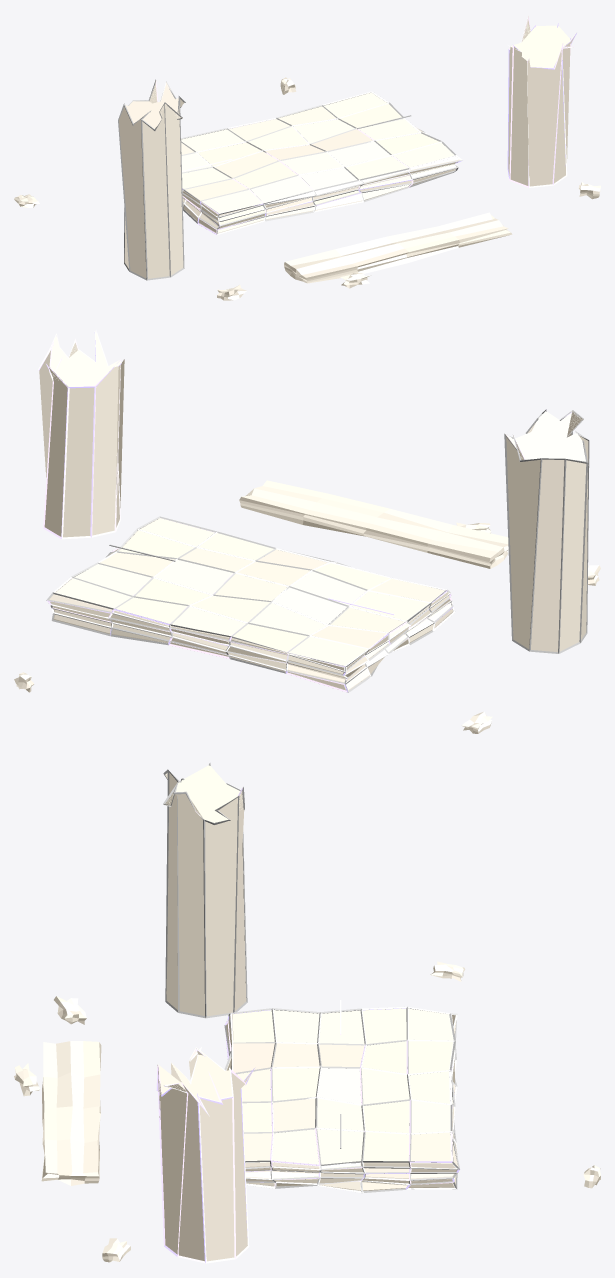
File: thealter.glb
The picture shows the model from 3 angles, top to bottom: view 1: azimuth 30°, elevation 25°; view 2: azimuth 150°, elevation 25°; view 3: azimuth 270°, elevation 25°; orthographic projection. The views are drawn at different scales.
Parts seen in each view (by area): view 1: AltarSlab, ColumnLeft, ColumnRight, AltarStep, AccentSlab.001, AccentSlab, AccentColL.001, AccentColR; view 2: AltarSlab, ColumnLeft, ColumnRight, AltarStep, AccentSlab.001, AccentSlab, AccentColL.001, AccentColR; view 3: AltarSlab, ColumnLeft, ColumnRight, AltarStep, AccentSlab.001, AccentSlab, AccentColL.001, AccentColR.
Boxes of the visible parts, x1,y1,x2,y2 form: AltarSlab: (181, 93, 460, 233); ColumnLeft: (119, 80, 183, 278); ColumnRight: (508, 16, 576, 186); AltarStep: (284, 212, 512, 283); AccentSlab.001: (181, 92, 462, 234); AccentSlab: (182, 91, 462, 235); AccentColL.001: (118, 79, 185, 280); AccentColR: (507, 15, 576, 187); AltarSlab: (49, 518, 453, 690); ColumnLeft: (505, 411, 588, 651); ColumnRight: (39, 330, 124, 537); AltarStep: (239, 480, 508, 568); AccentSlab.001: (46, 516, 453, 692); AccentSlab: (47, 521, 455, 692); AccentColL.001: (504, 409, 589, 653); AccentColR: (38, 330, 122, 539); AltarSlab: (226, 1008, 458, 1190); ColumnLeft: (164, 765, 246, 1016); ColumnRight: (157, 1048, 254, 1261); AltarStep: (41, 1041, 101, 1185); AccentSlab.001: (224, 1006, 459, 1193); AccentSlab: (225, 1006, 459, 1192); AccentColL.001: (163, 763, 247, 1018); AccentColR: (156, 1047, 255, 1263).
Size of the model in its own units: 7.7 by 2.89 by 6.53.
